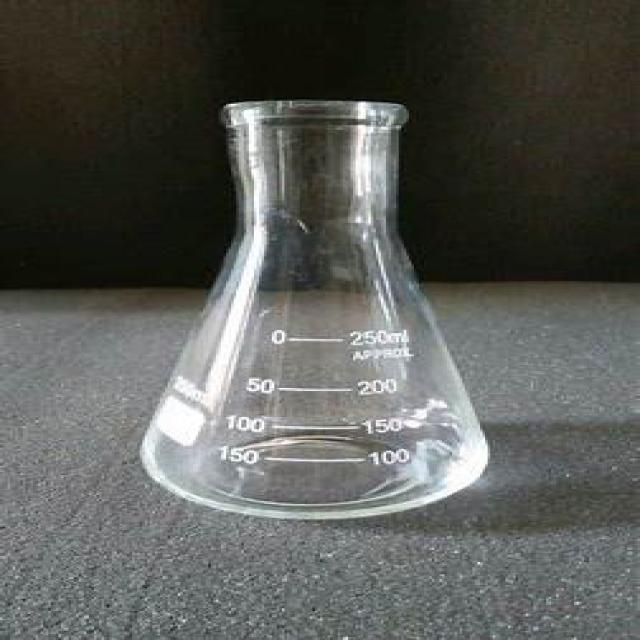Titrarion: (133, 96, 492, 514)
